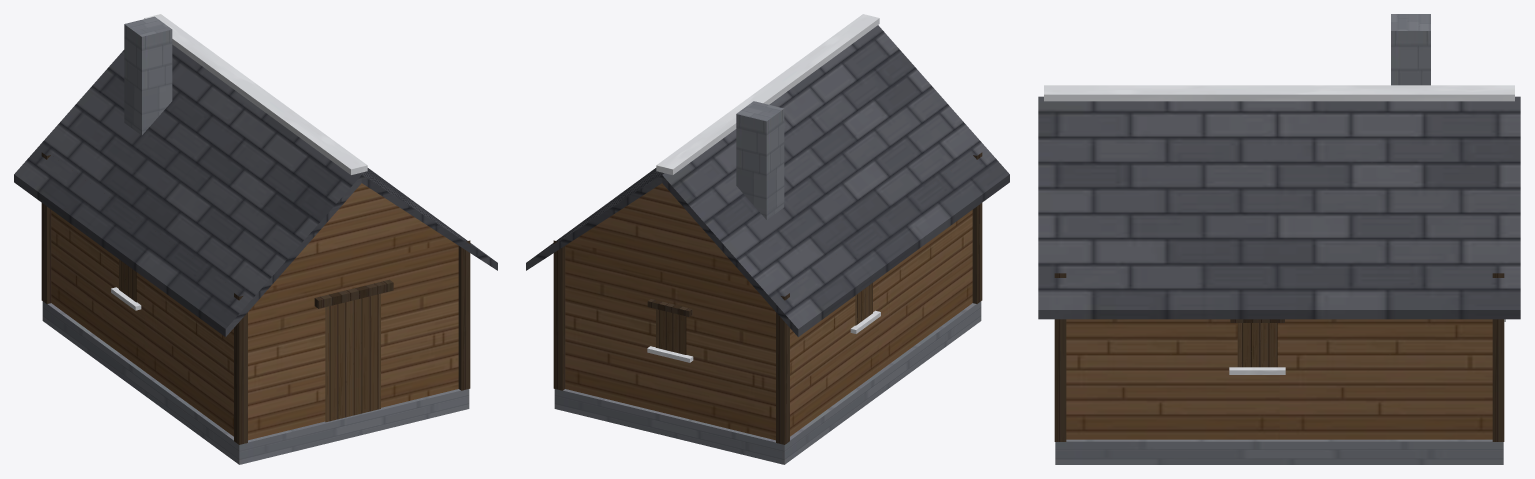
File: ae_snow_wood_medium_block_lod1.glb
3 views of the same model, side by side, from view 1: azimuth 30°, elevation 25°; view 2: azimuth 150°, elevation 25°; view 3: azimuth 270°, elevation 25° (orthographic). The views are drawn at different scales.
Visible parts, largest first — view 1: ae_snow_wood_medium_block_lod1; view 2: ae_snow_wood_medium_block_lod1; view 3: ae_snow_wood_medium_block_lod1.
Boxes of the visible parts, <box> form: ae_snow_wood_medium_block_lod1: <box>14,14,497,464</box>; ae_snow_wood_medium_block_lod1: <box>526,14,1009,464</box>; ae_snow_wood_medium_block_lod1: <box>1038,14,1520,464</box>.
Bounding box in the file's own units: 4.9 × 5.3 × 6.6.
Materials: 1 (1 with a texture image).
